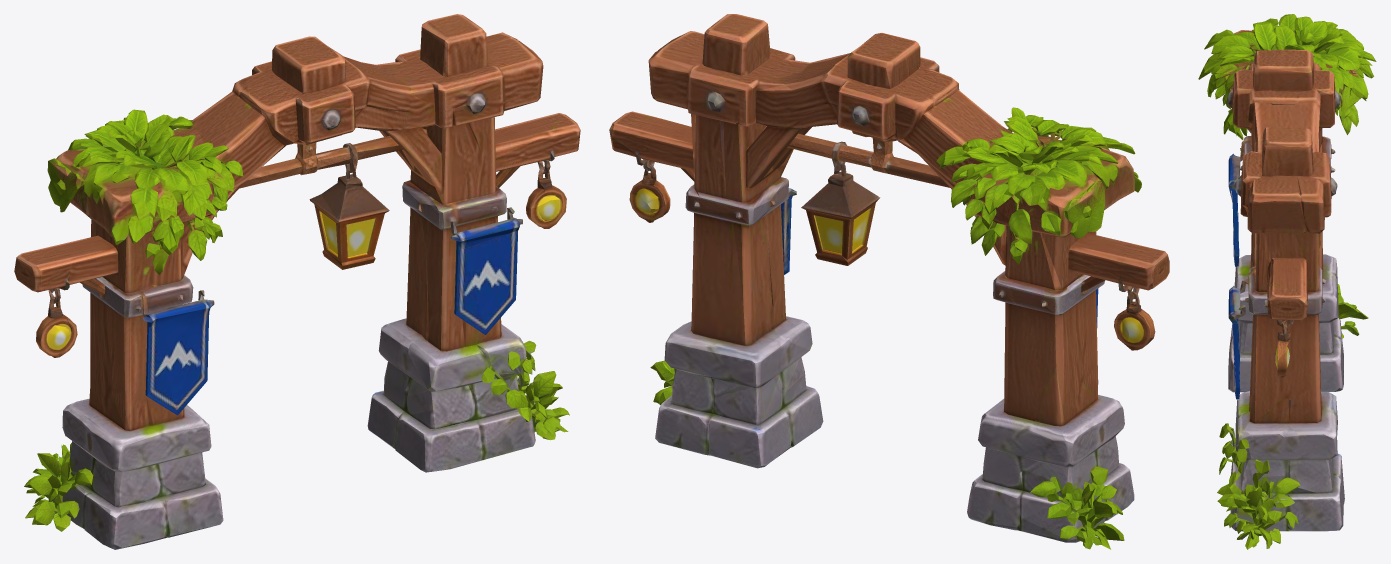
Rendered from wooden_village_gate.glb.
3 renders of one model, left to right at view 1: azimuth 30°, elevation 25°; view 2: azimuth 150°, elevation 25°; view 3: azimuth 270°, elevation 25°, orthographic. The views are drawn at different scales.
Parts seen in each view (by area): view 1: output_unwrapped; view 2: output_unwrapped; view 3: output_unwrapped.
Part boxes in pixels (x1,y1,x2,y2): output_unwrapped: [14, 14, 580, 549]; output_unwrapped: [609, 14, 1169, 549]; output_unwrapped: [1198, 14, 1376, 549].
Size of what is drawn, in the model's own units: 1.34 by 1 by 0.4159.
1 material, 1 textured.
